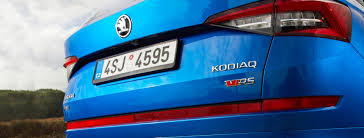number_plate: (87, 38, 197, 80)
